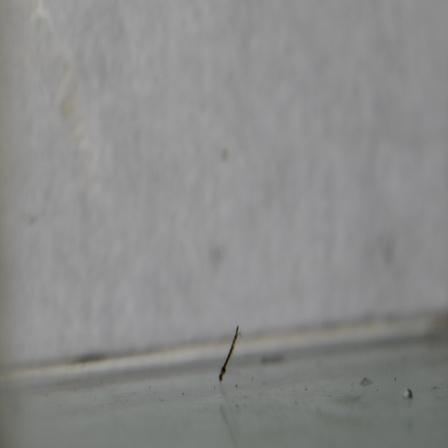Jentik-Nyamuk: (215, 323, 245, 384)
